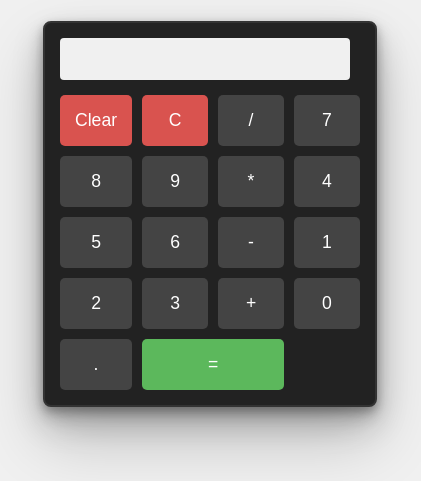
Calculator E2E Tests › should perform multiplication correctly
Click the button with test id "num-2": (96,304) [60,278,132,329]
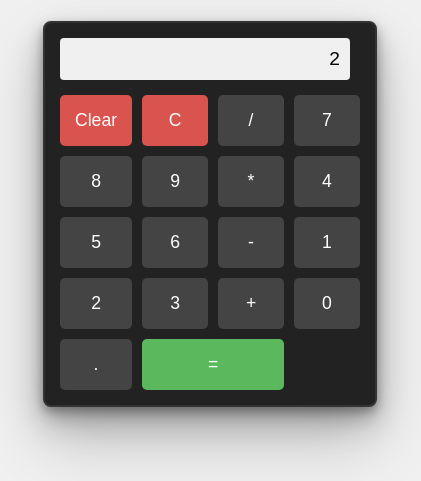
Click the button with test id "multiply": (251,182) [218,156,284,207]
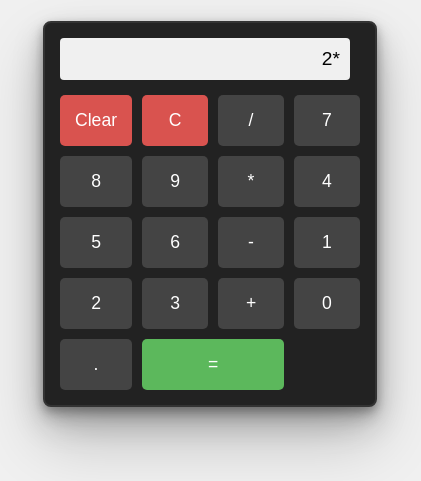
Click the button with test id "num-3": (175,304) [142,278,208,329]
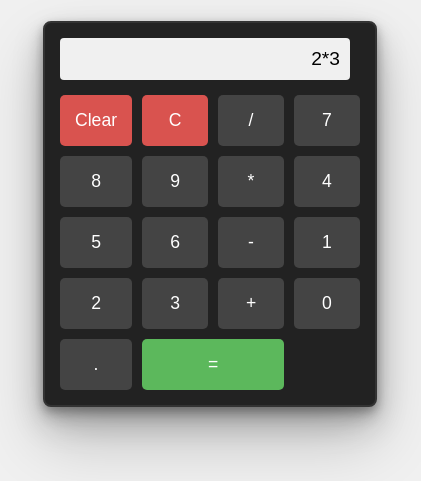
Click the button with test id "equals": (213,365) [142,339,284,390]
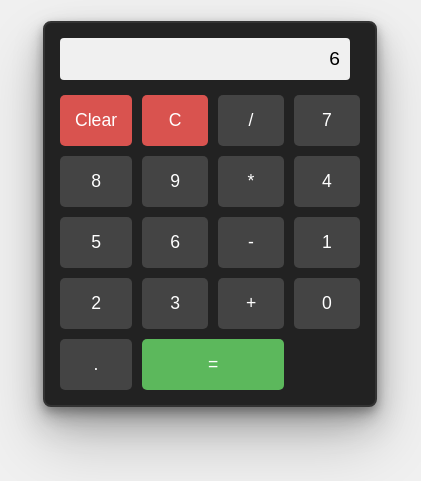
Check: the field holds "6", box [60,38,350,80]
